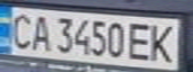0: (106, 19, 130, 60)
3: (51, 15, 75, 54)
4: (69, 16, 93, 56)
5: (90, 18, 109, 57)
A: (27, 11, 54, 52)
C: (3, 10, 36, 51)
E: (124, 20, 154, 62)
K: (145, 20, 181, 64)
